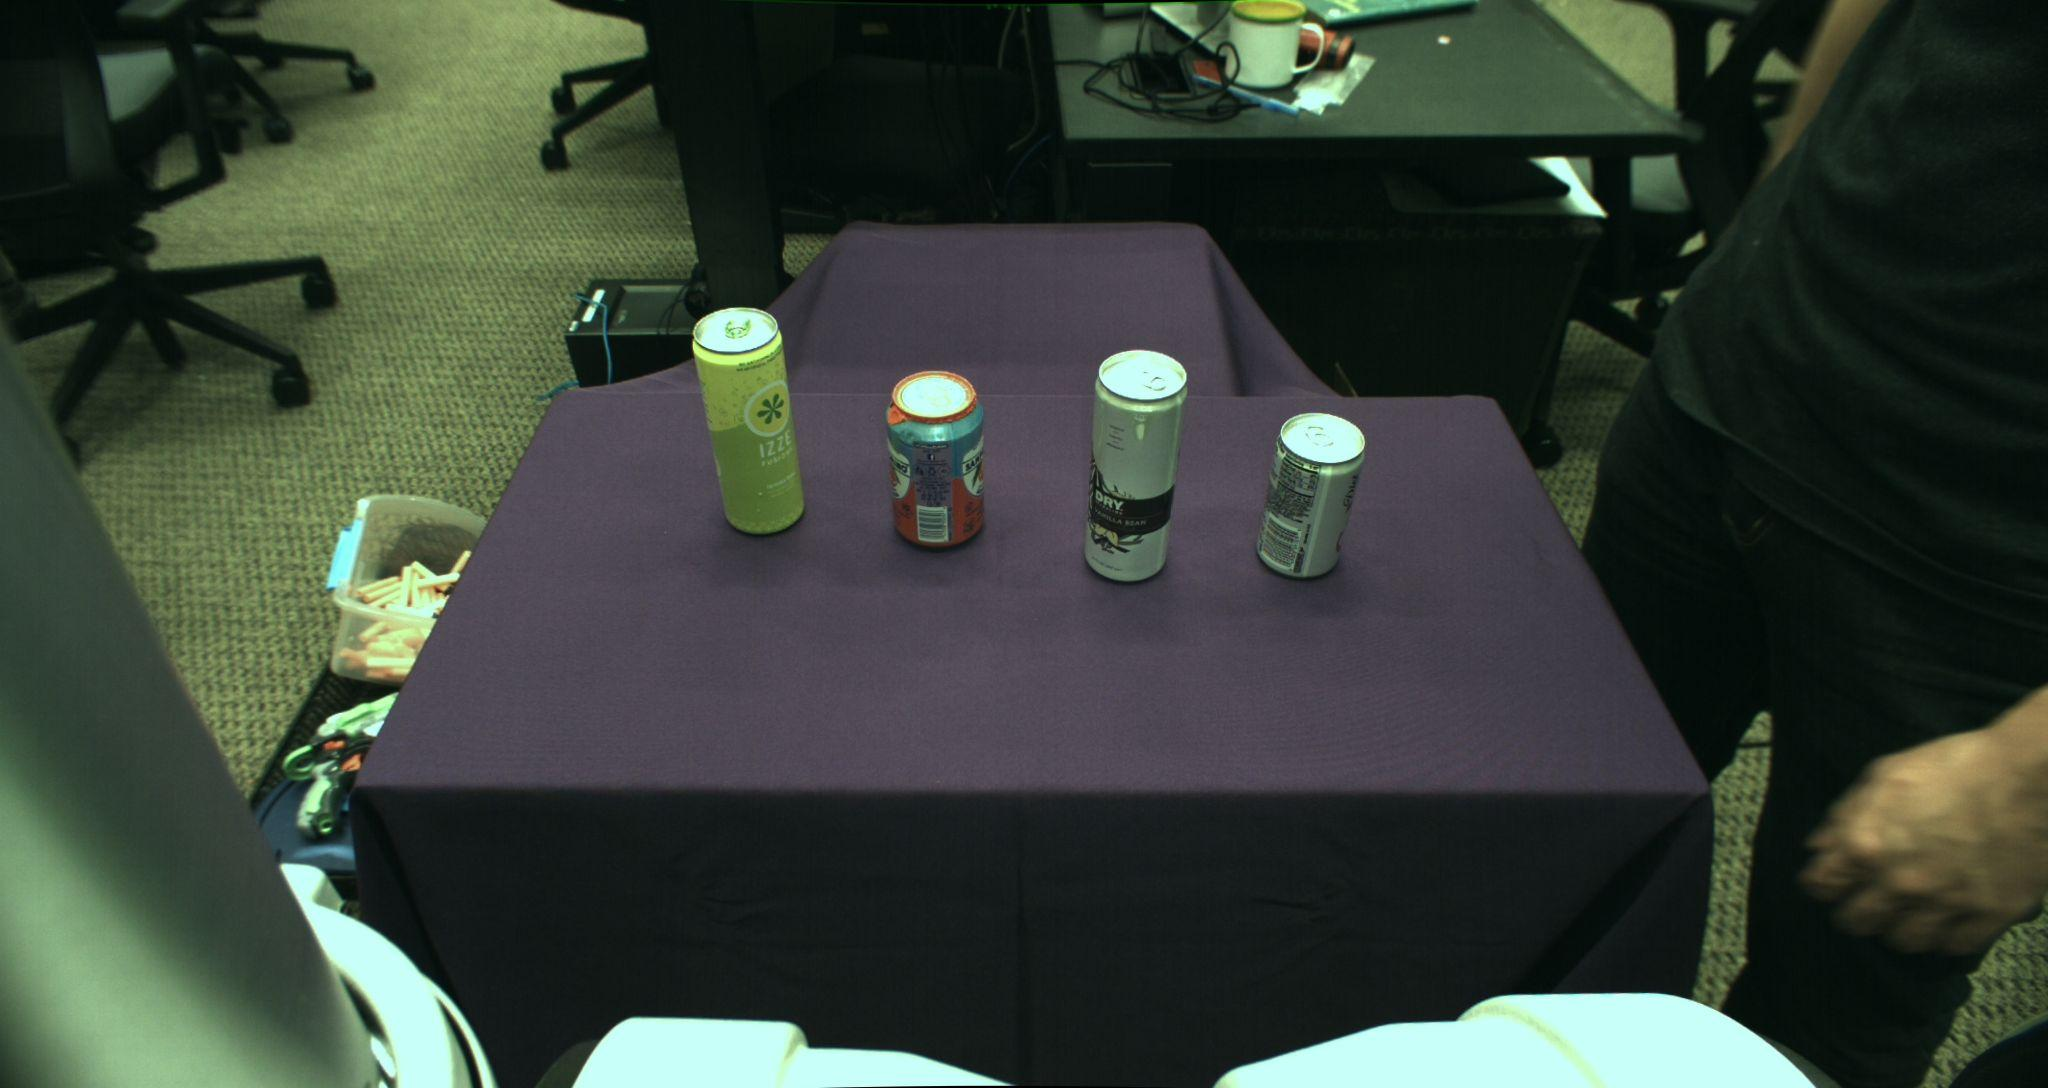can_diet_coke_small: (1256, 411, 1365, 580)
can_dry_sparkling_vanilla_bean: (1085, 350, 1187, 583)
can_izze_fusions_lemon_lime: (691, 306, 806, 537)
can_sanpellegrino_blood_orange: (884, 370, 985, 547)
